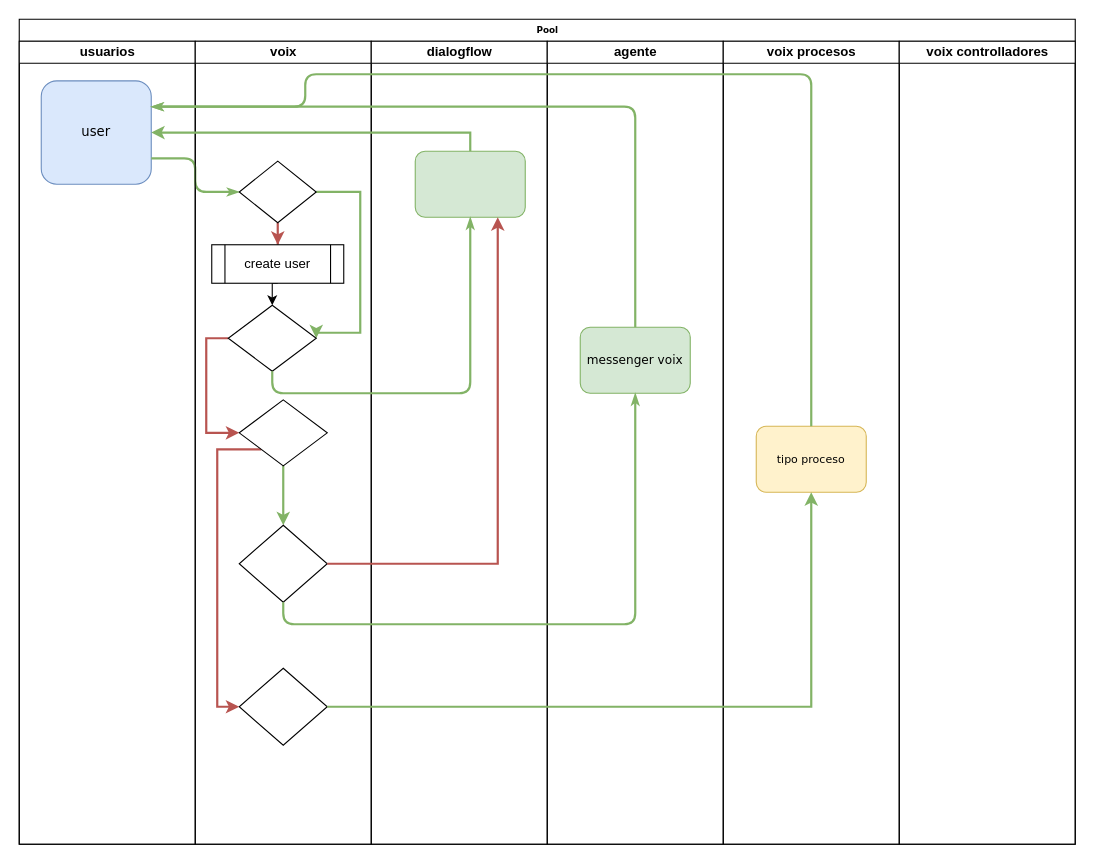
Some shapes in this 1095 by 864 pixel diagram are drawn without their labels. The shapes that lost their labels are listed below. From the top down, each one's centre as x and y in pixels, then its label:
At point (277, 191): "user created".
At point (469, 183): "response dialog".
At point (271, 337): "flujo=1".
At point (282, 432): "flujo=3".
At point (282, 563): "session=2".
At point (282, 706): "flujo=2".
